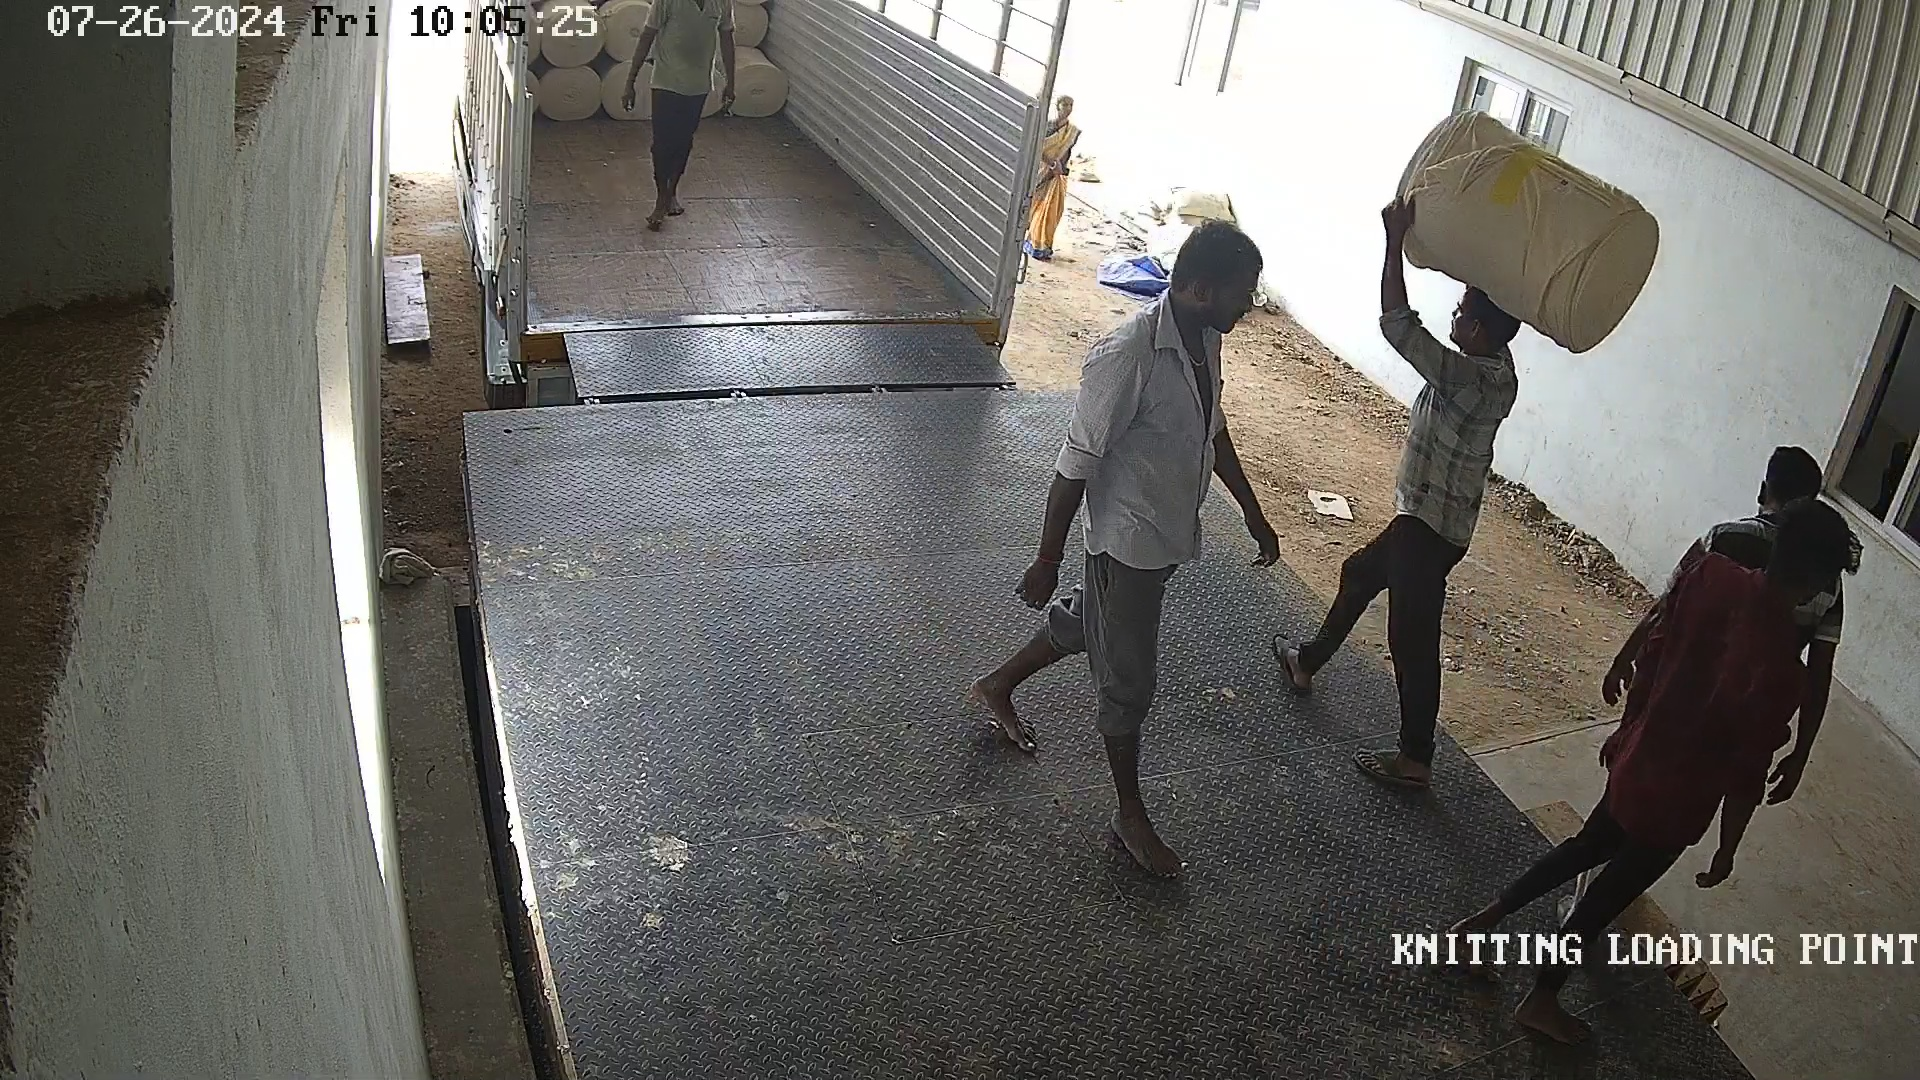bag: (1383, 98, 1664, 363)
